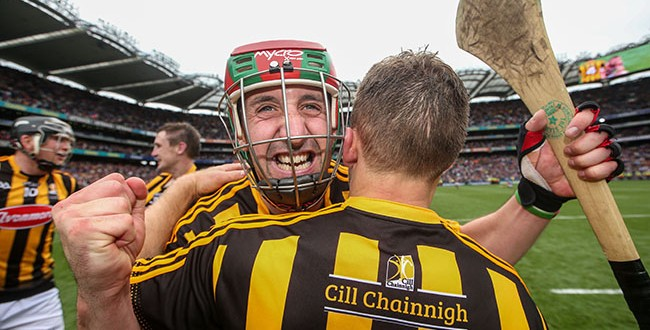hurley: (452, 1, 649, 328)
